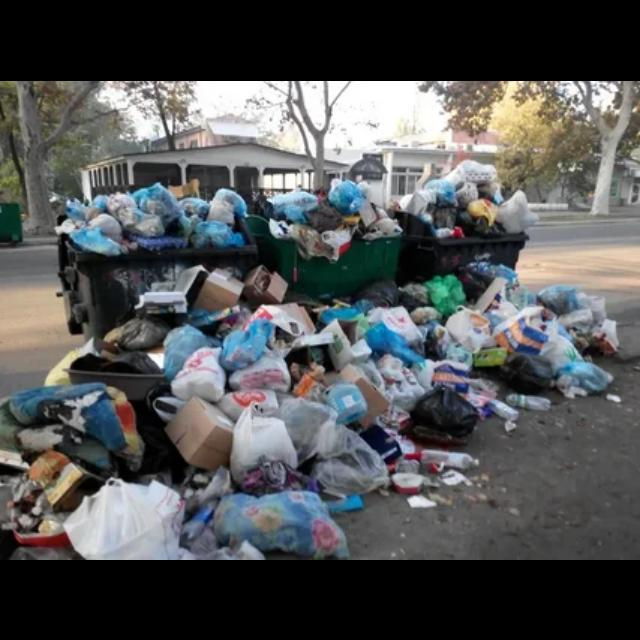Trash_Can_Full: (59, 184, 261, 326), (260, 186, 402, 294), (406, 160, 528, 277)
